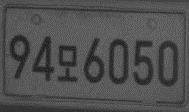0: (157, 39, 180, 87), (107, 37, 129, 84)
4: (30, 35, 54, 83)
5: (132, 39, 155, 86)
6: (82, 37, 105, 83)
9: (8, 33, 30, 79)
모: (56, 44, 79, 83)
